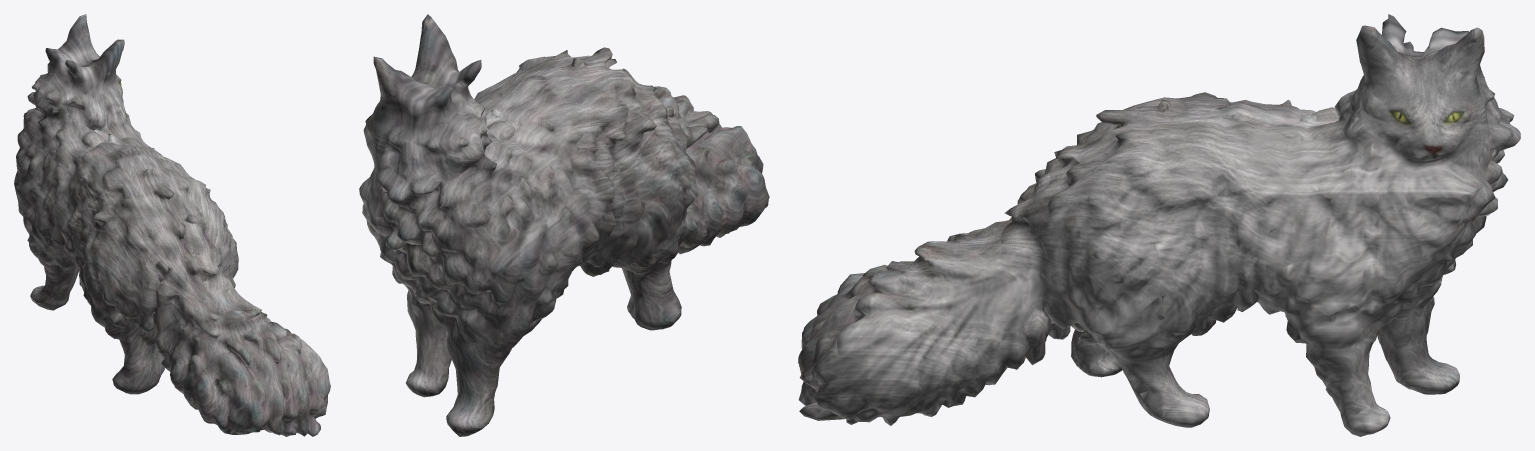
File: emy-neural-20k.glb
3 views of the same model, side by side, from view 1: azimuth 30°, elevation 25°; view 2: azimuth 150°, elevation 25°; view 3: azimuth 270°, elevation 25° (orthographic). The views are drawn at different scales.
Visible parts, largest first — view 1: geometry_0; view 2: geometry_0; view 3: geometry_0.
Boxes of the visible parts, x1,y1,x2,y2 form: geometry_0: (14,14,330,436); geometry_0: (359,14,769,436); geometry_0: (798,14,1520,436).
Size of the model in its own units: 0.316 by 0.587 by 0.9416.
1 material, 1 textured.
